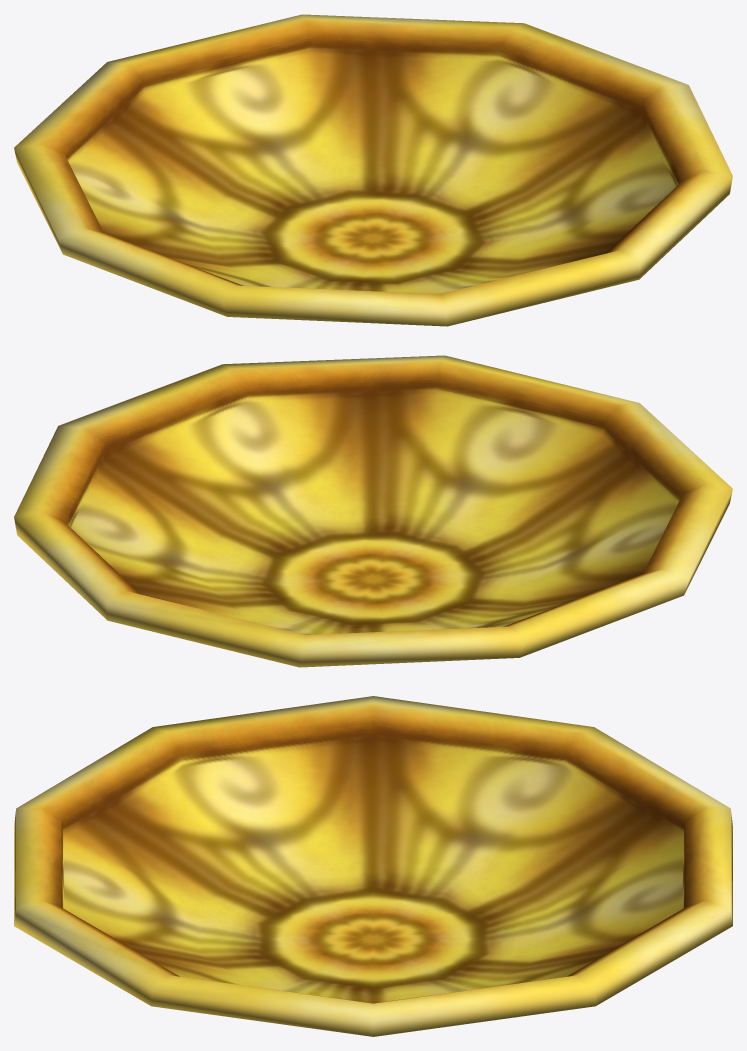
File: Saucer_QUEEN_OF_HEARTS.dae
The picture shows the model from 3 angles, top to bottom: view 1: azimuth 30°, elevation 25°; view 2: azimuth 150°, elevation 25°; view 3: azimuth 270°, elevation 25°; orthographic projection. The views are drawn at different scales.
Parts seen in each view (by area): view 1: mesh0; view 2: mesh0; view 3: mesh0.
Boxes of the visible parts, <box> form: mesh0: <box>14,14,732,326</box>; mesh0: <box>14,355,732,667</box>; mesh0: <box>14,696,732,1036</box>.
Bounding box in the file's own units: 0.3021 × 0.047 × 0.2819.
